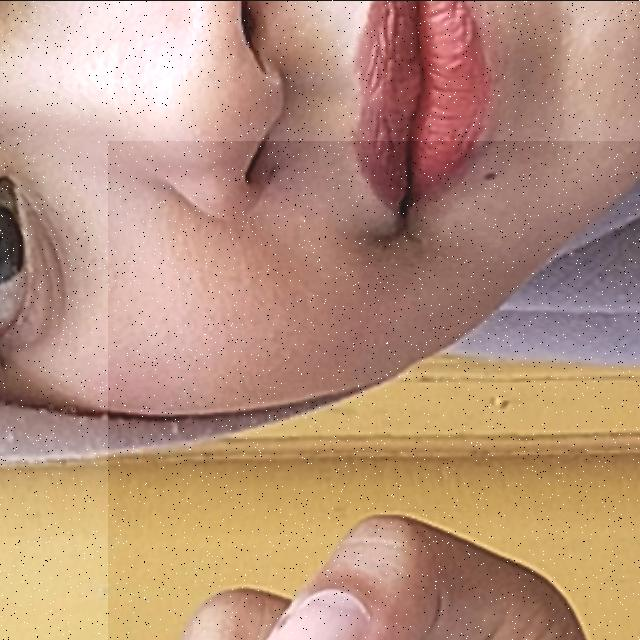baik: (108, 140, 640, 640)
